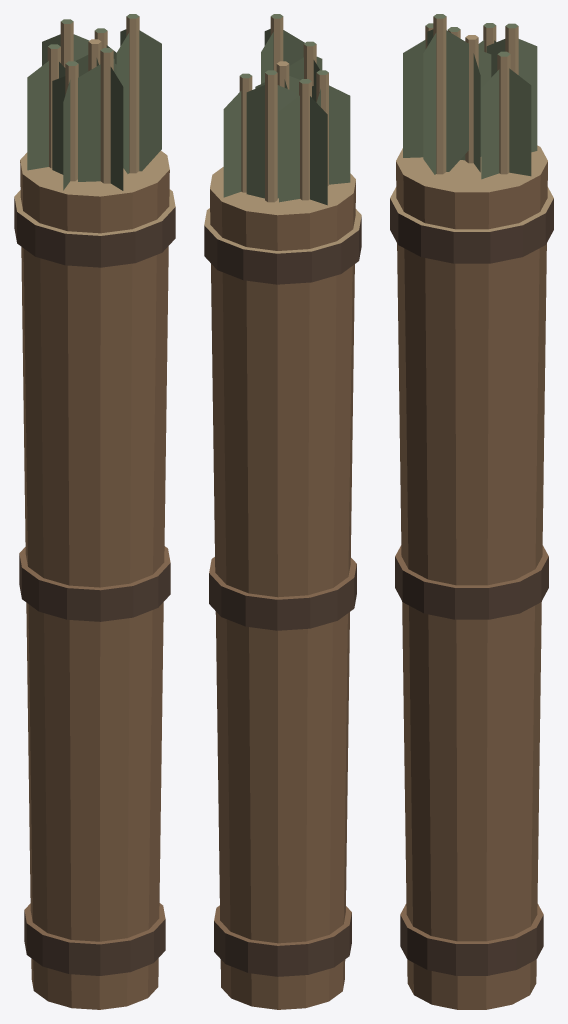
The model's file is ROWAN_quiver.fbx.
3 renders of one model, left to right at view 1: azimuth 30°, elevation 25°; view 2: azimuth 150°, elevation 25°; view 3: azimuth 270°, elevation 25°, orthographic. The views are drawn at different scales.
Parts seen in each view (by area): view 1: ROWAN_quiver; view 2: ROWAN_quiver; view 3: ROWAN_quiver.
Boxes of the visible parts, left/top/right/bottom form: ROWAN_quiver: left=14, top=14, right=175, bottom=1009; ROWAN_quiver: left=204, top=14, right=361, bottom=1009; ROWAN_quiver: left=390, top=14, right=553, bottom=1009.
Size of the model in its own units: 0.1092 by 0.7371 by 0.112.
